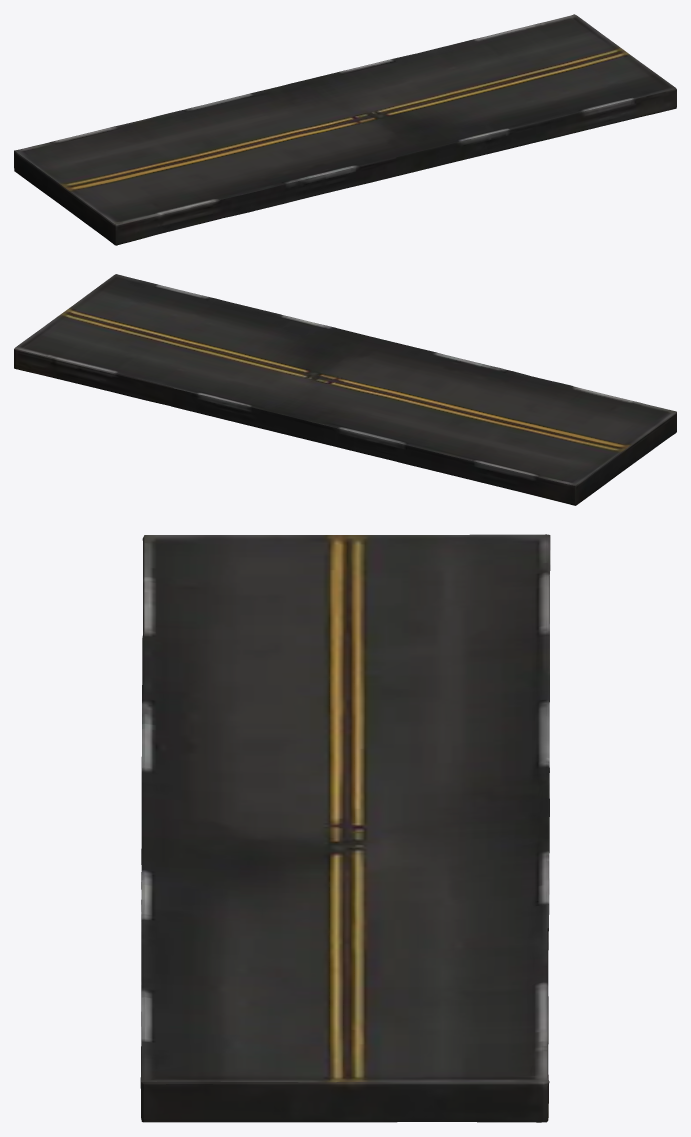
The model's file is road straight.glb.
The picture shows the model from 3 angles, top to bottom: view 1: azimuth 30°, elevation 25°; view 2: azimuth 150°, elevation 25°; view 3: azimuth 270°, elevation 25°; orthographic projection. The views are drawn at different scales.
Parts seen in each view (by area): view 1: world; view 2: world; view 3: world.
Boxes of the visible parts, x1,y1,x2,y2 form: world: [14, 14, 676, 245]; world: [14, 274, 676, 505]; world: [140, 534, 550, 1122].
Bounding box in the file's own units: 1 × 0.0361 × 0.3162.
1 material, 1 textured.
